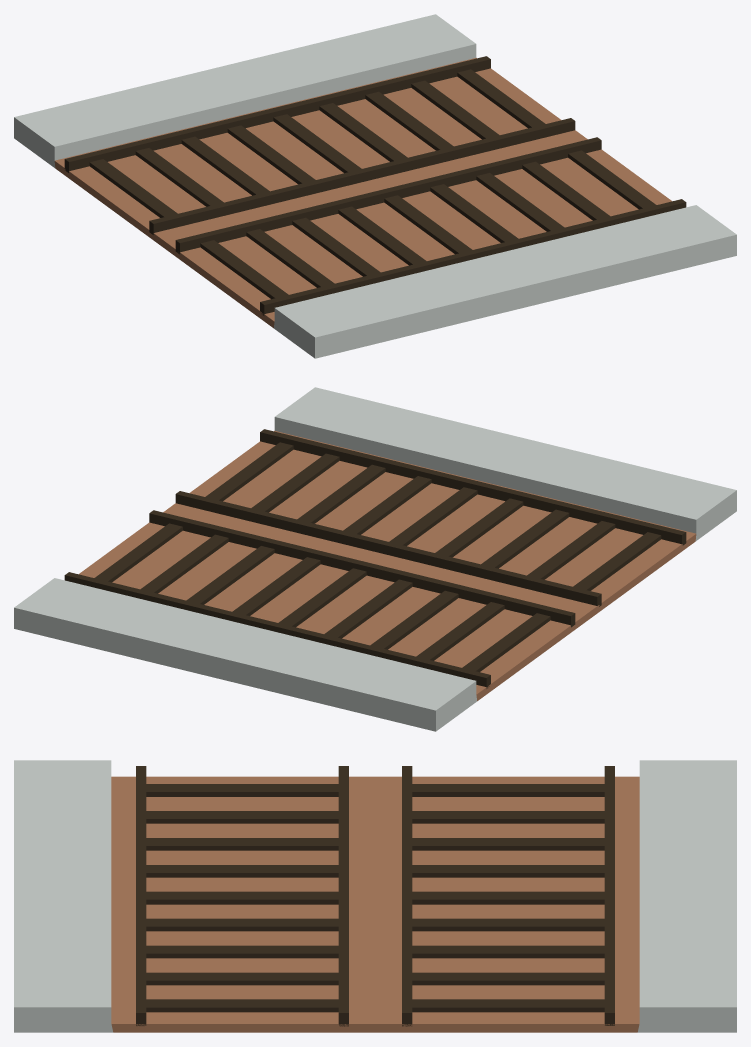
File: RailTrackTile_3.fbx
The picture shows the model from 3 angles, top to bottom: view 1: azimuth 30°, elevation 25°; view 2: azimuth 150°, elevation 25°; view 3: azimuth 270°, elevation 25°; orthographic projection. The views are drawn at different scales.
Visible parts, largest first — view 1: RailTrackTile_3; view 2: RailTrackTile_3; view 3: RailTrackTile_3.
Boxes of the visible parts, <box> form: RailTrackTile_3: <box>14,14,736,358</box>; RailTrackTile_3: <box>14,387,736,731</box>; RailTrackTile_3: <box>14,760,736,1032</box>.
Size of the model in its own units: 600 by 28.78 by 742.
